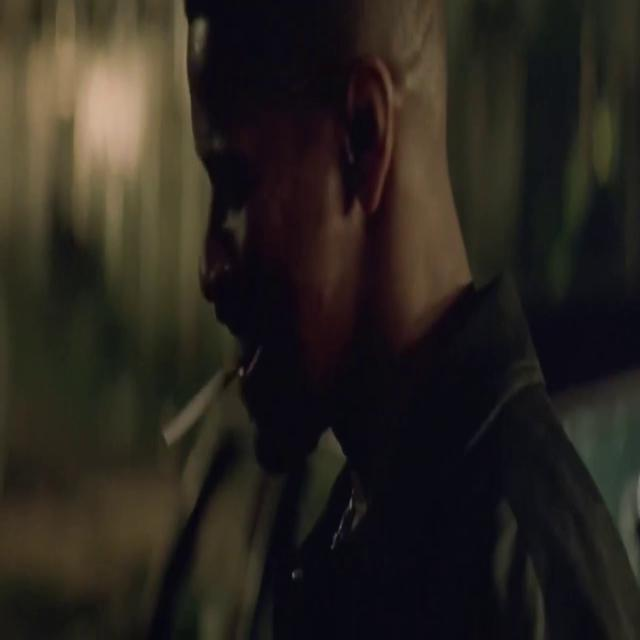Smooking: (144, 332, 241, 464)
